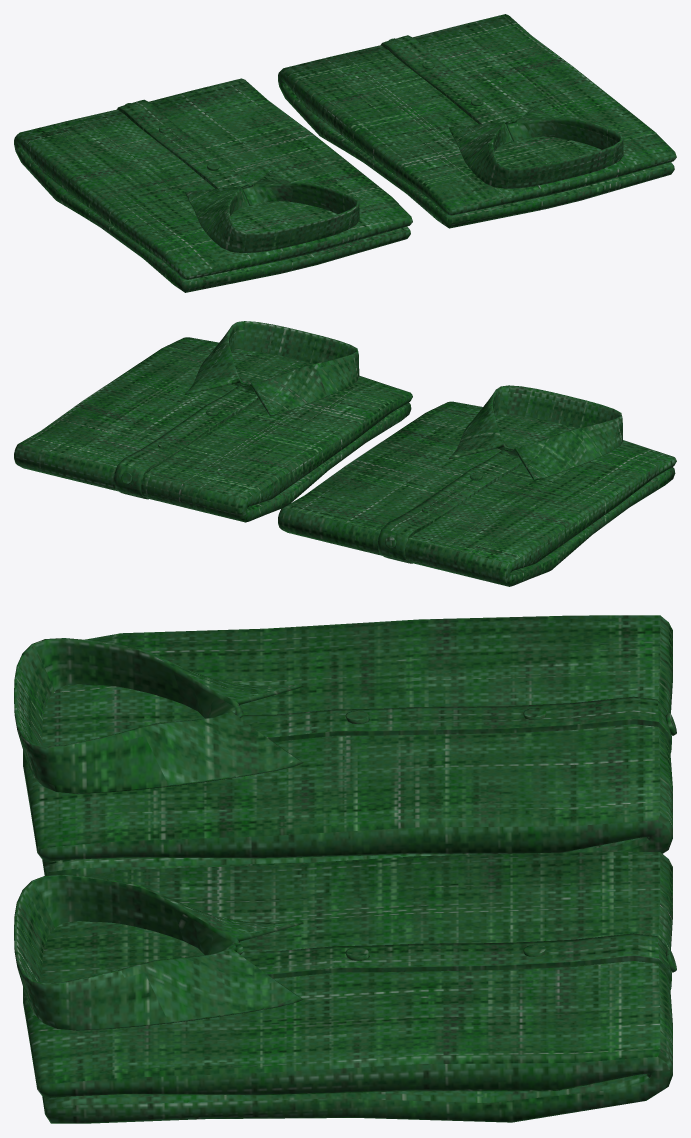
Rendered from chenshan16.fbx.
The picture shows the model from 3 angles, top to bottom: view 1: azimuth 30°, elevation 25°; view 2: azimuth 150°, elevation 25°; view 3: azimuth 270°, elevation 25°; orthographic projection. The views are drawn at different scales.
Visible parts, largest first — view 1: chenshan16; view 2: chenshan16; view 3: chenshan16.
Boxes of the visible parts, <box> form: chenshan16: <box>14,14,676,292</box>; chenshan16: <box>14,321,676,586</box>; chenshan16: <box>14,615,676,1123</box>.
Bounding box in the file's own units: 52.97 × 5.51 × 33.24.
